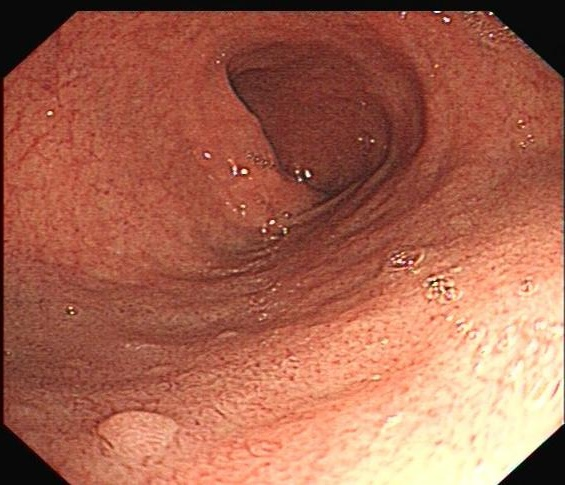Polyp: (91, 407, 184, 465)
